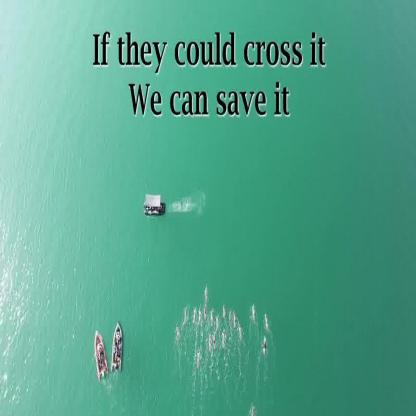Boat: (110, 321, 126, 376), (91, 334, 107, 380)
